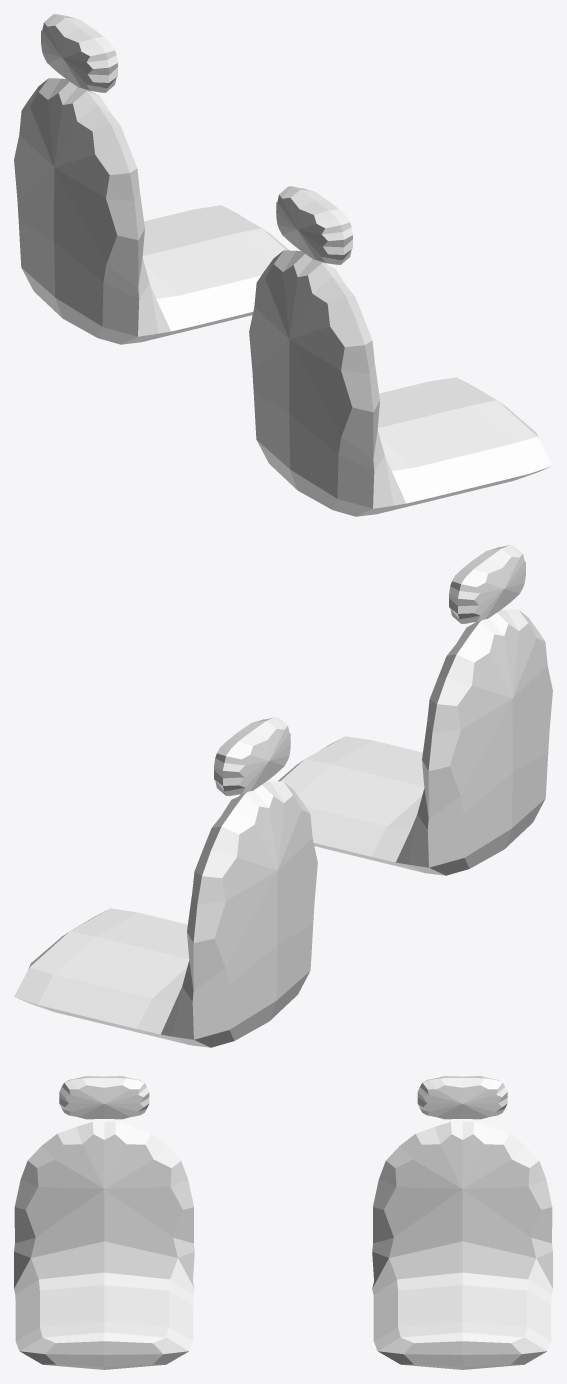
Rendered from Seats.glb.
3 renders of one model, top to bottom at view 1: azimuth 30°, elevation 25°; view 2: azimuth 150°, elevation 25°; view 3: azimuth 270°, elevation 25°, orthographic. The views are drawn at different scales.
Parts seen in each view (by area): view 1: Seat1.002; view 2: Seat1.002; view 3: Seat1.002.
Part boxes in pixels (x1,y1,x2,y2): Seat1.002: (14,14,552,516); Seat1.002: (14,545,552,1047); Seat1.002: (14,1076,552,1369).
Size of the model in its own units: 0.0203 by 0.0263 by 0.0572.
Materials: 1 (1 with a texture image).
